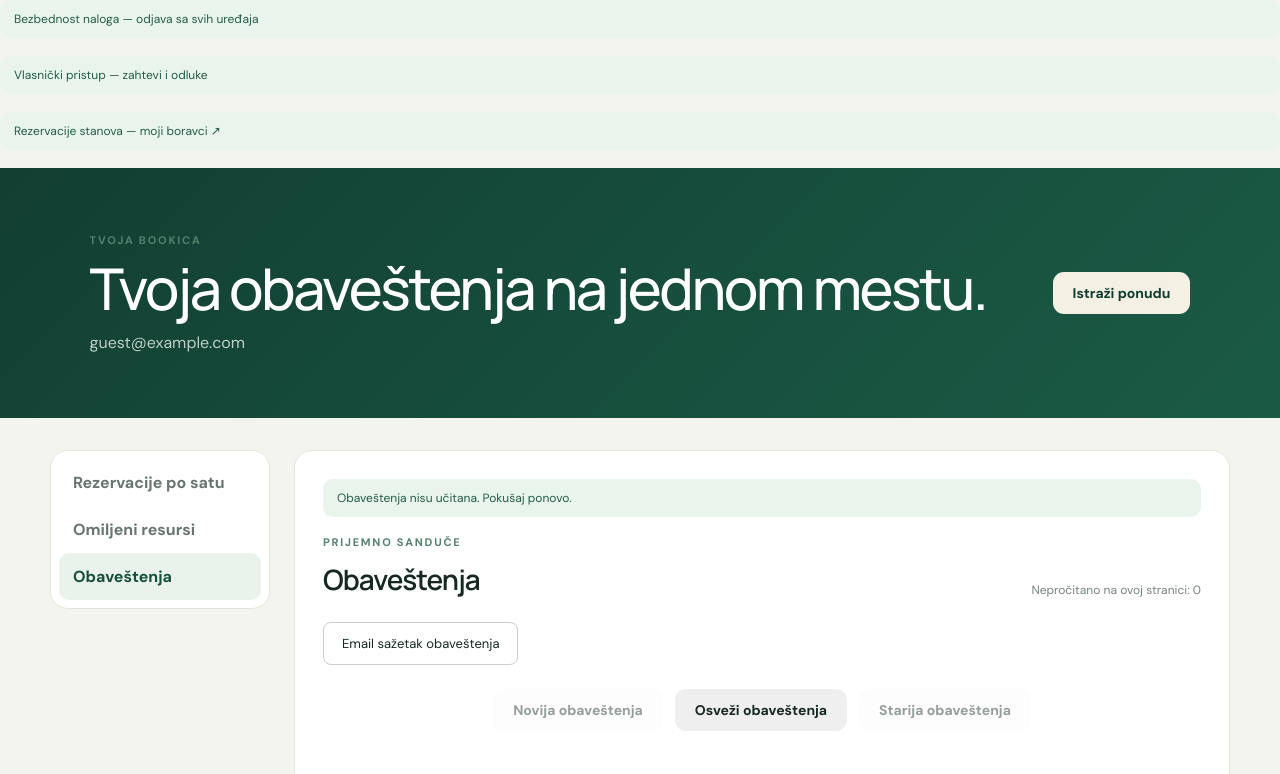
Scenario: AccountDashboard notification inbox › refreshes after an inbox failure and keeps a notification when marking fails
Expected: the text "Obaveštenja nisu učitana. Pokušaj ponovo." is shown, left=323, top=479, right=1201, bottom=517
Click the button "Osveži obaveštenja" at (761, 710), box left=675, top=689, right=847, bottom=731
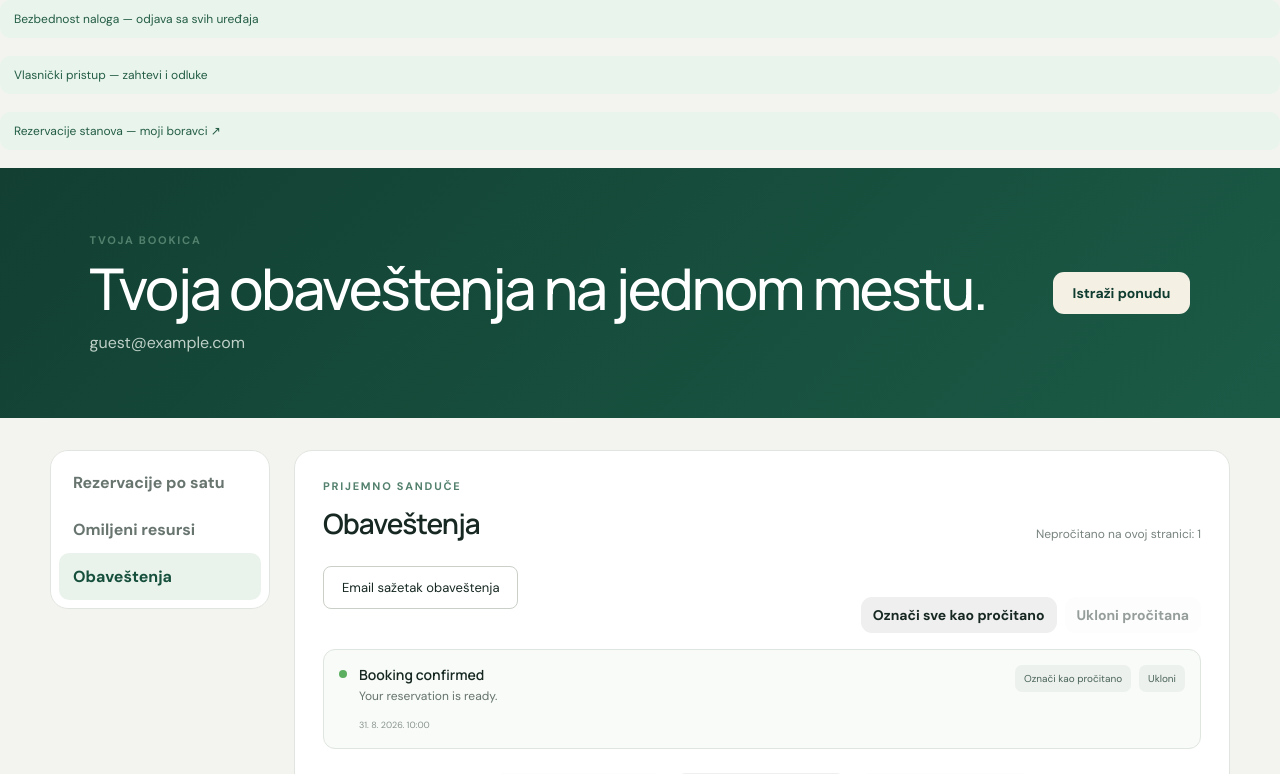
Result: the heading "Booking confirmed" is shown at left=359, top=665, right=484, bottom=684
Click the button "Označi kao pročitano" at (1073, 678), box left=1015, top=665, right=1131, bottom=692
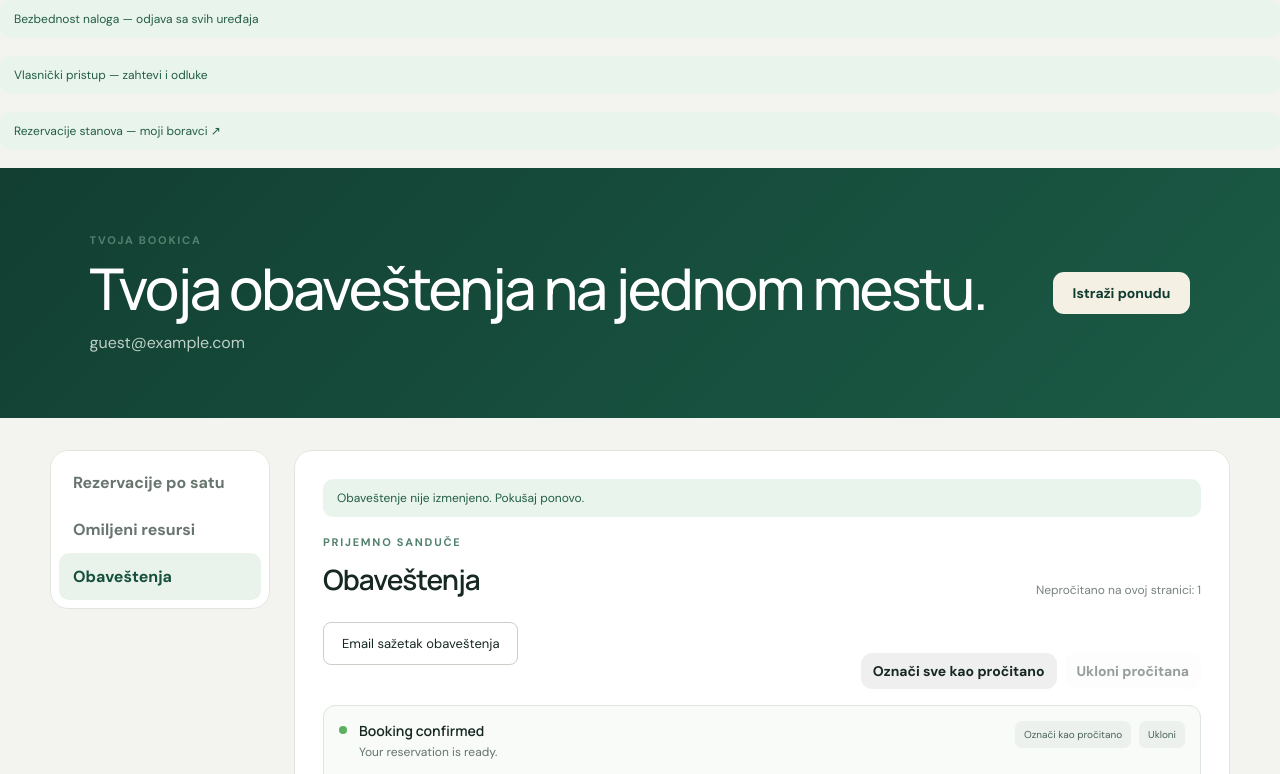
Result: the text "Nepročitano na ovoj stranici: 1" is shown at left=1036, top=582, right=1201, bottom=598
Result: the button "Označi kao pročitano" is enabled at left=1015, top=721, right=1131, bottom=748
Result: the text "Obaveštenje nije izmenjeno. Pokušaj ponovo." is shown at left=323, top=479, right=1201, bottom=517
